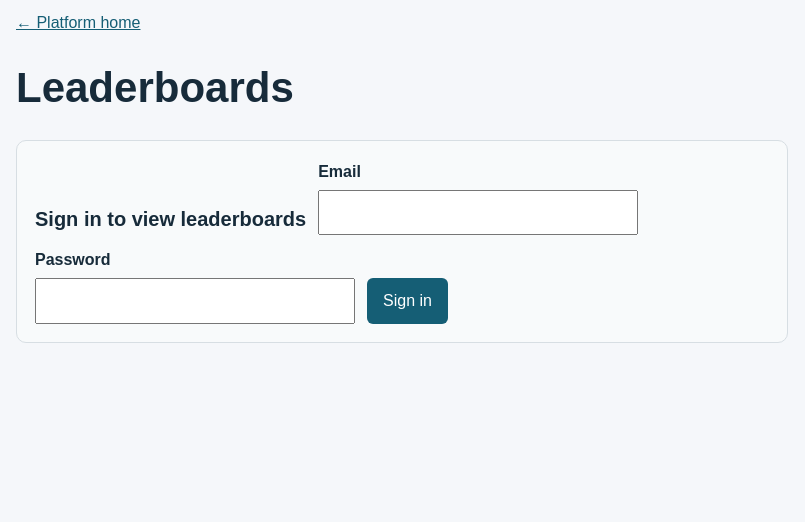
Test: ignores an outdated quiz response after switching to a topic leaderboard
Type "student@example.com" into the field labelled "Email".
click(478, 212); type("student@example.com")  # box [318,190,638,235]
Type "Study1234" into the password field labelled "Password".
click(195, 301); type("Study1234")  # box [35,278,355,324]
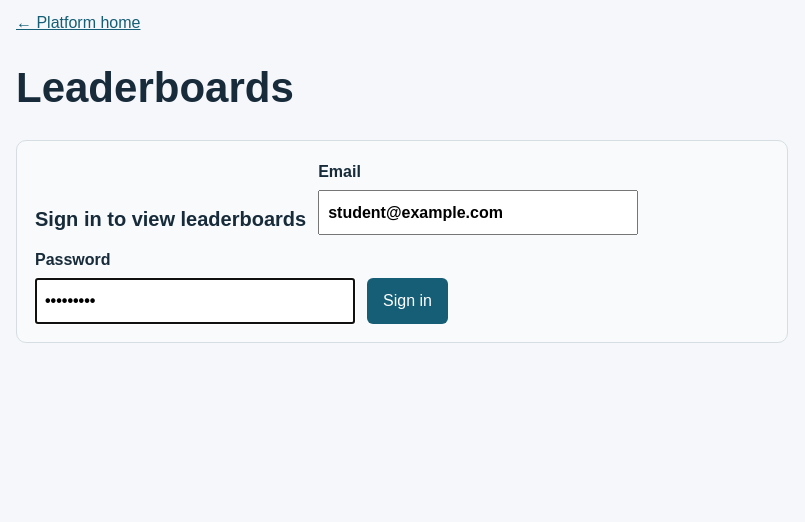
Click the button "Sign in".
click(407, 301)  # box [367,278,448,324]
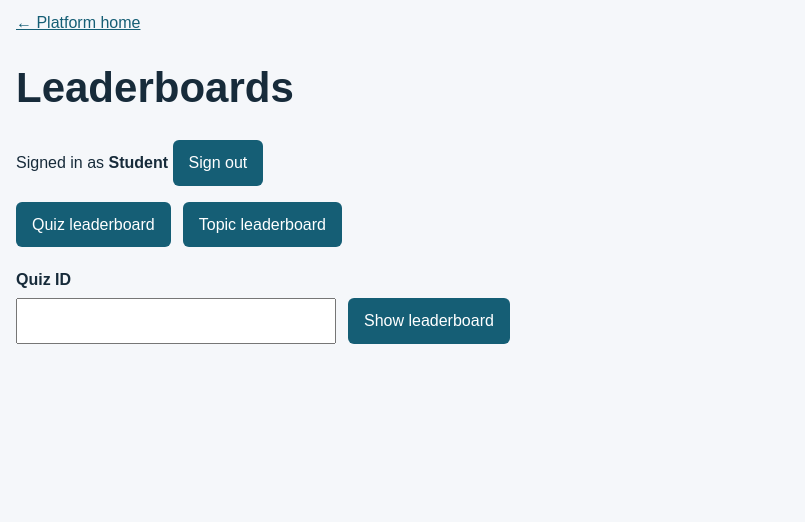
Type "aaaaaaaaaaaaaaaaaaaaaaaa" into the field labelled "Quiz ID".
click(176, 321); type("aaaaaaaaaaaaaaaaaaaaaaaa")  # box [16,298,336,344]
Click the button "Show leaderboard".
click(429, 321)  # box [348,298,510,344]
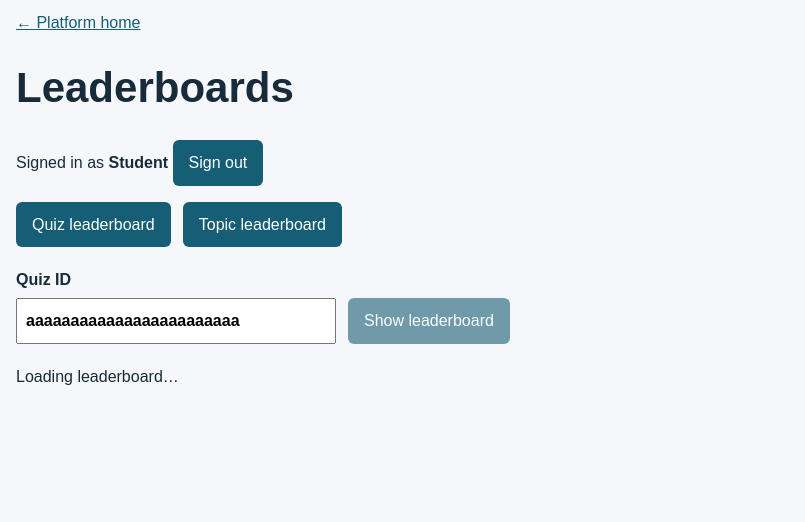
Check: the text "Loading leaderboard…" is shown, box [16,368,179,384]
Click the button "Topic leaderboard".
click(262, 224)  # box [183,202,342,247]
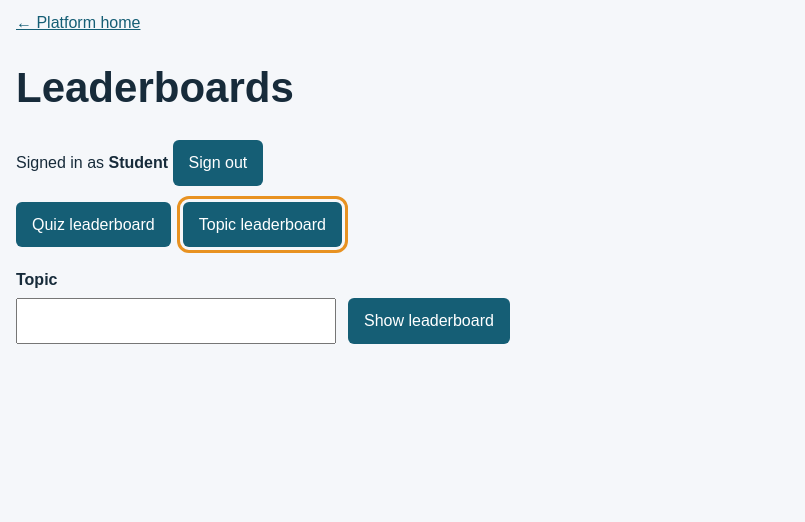
Type "networks" into the field labelled "Topic".
click(176, 321); type("networks")  # box [16,298,336,344]
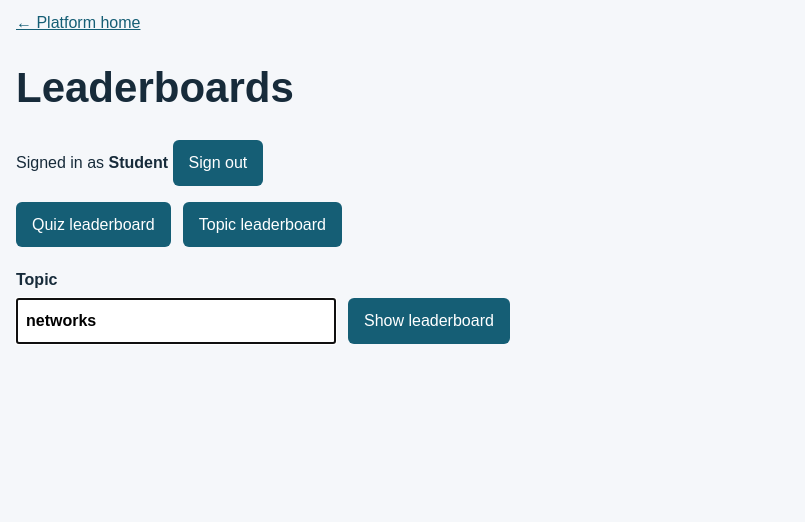
Click the button "Show leaderboard".
click(429, 321)  # box [348,298,510,344]
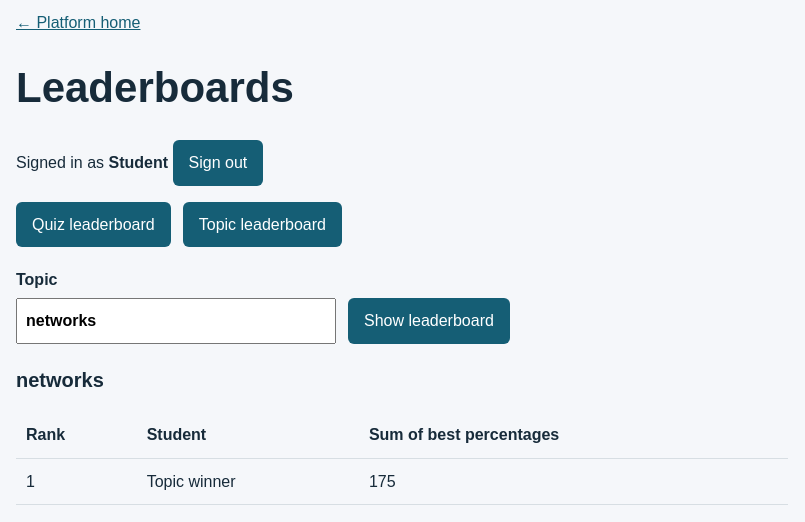
Check: the text "Topic winner" is shown, box [137,458,359,505]
Check: the text "175" is shown, box [359,458,788,505]
Check: the element named "Topic leaderboard results" is shown, box [16,364,788,505]
